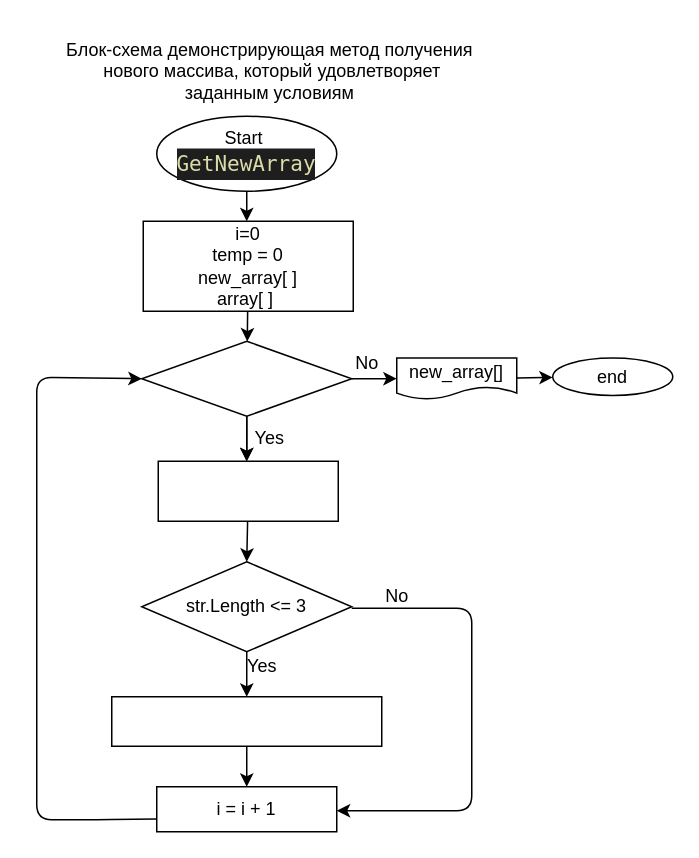
Some shapes in this 699 by 858 pixel diagram are drawn without their labels. Each missing label, with the centre of its shape:
"i < array.Length" goes at pixel 246 378.
"new_array[ temp ]= array[ i ] temp = temp + 1" goes at pixel 246 720.
"str = array[ i ]" goes at pixel 247 490.
